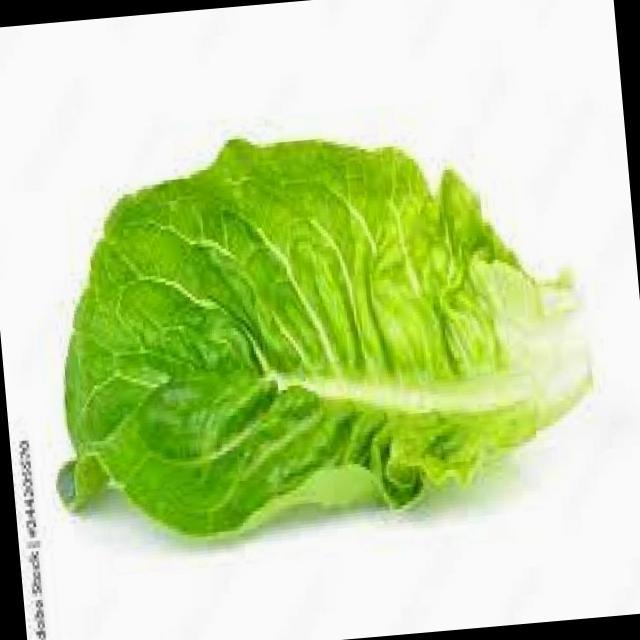Lettuce-Ready-to-Harvest: (59, 140, 588, 537)
